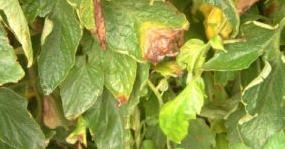Tomato mold leaf: (61, 0, 193, 73), (18, 0, 87, 94), (201, 19, 279, 77), (0, 85, 55, 149)
